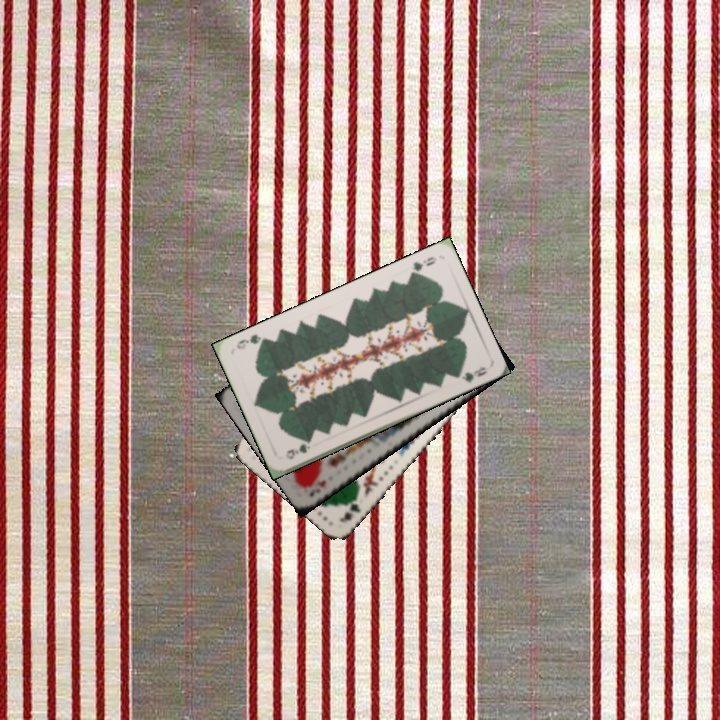G9: (405, 252, 439, 280), (281, 439, 313, 462)
GK: (335, 492, 364, 525)
HK: (305, 476, 329, 500)
